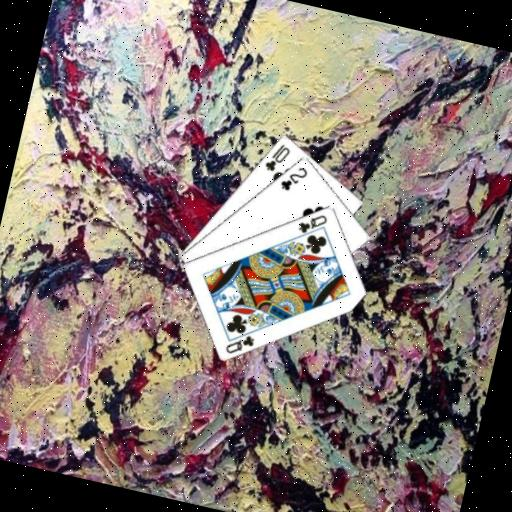10C: (261, 137, 293, 176)
2C: (276, 160, 311, 196)
QC: (221, 327, 258, 360), (295, 207, 331, 240)
